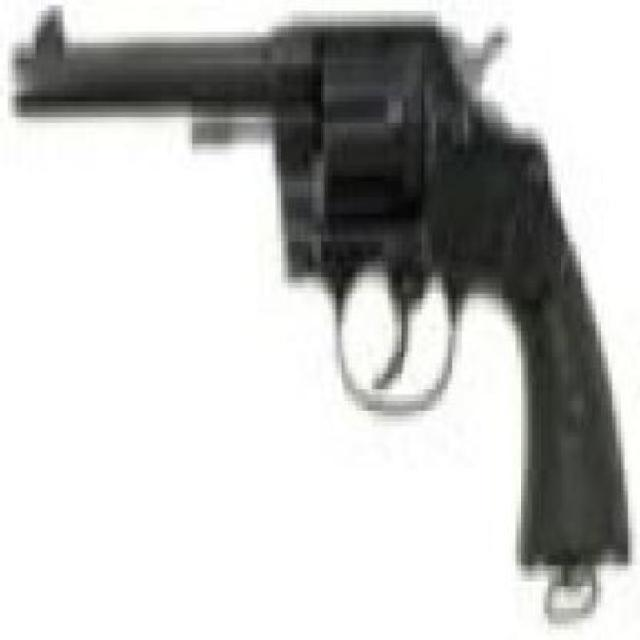gun: (16, 4, 632, 560)
